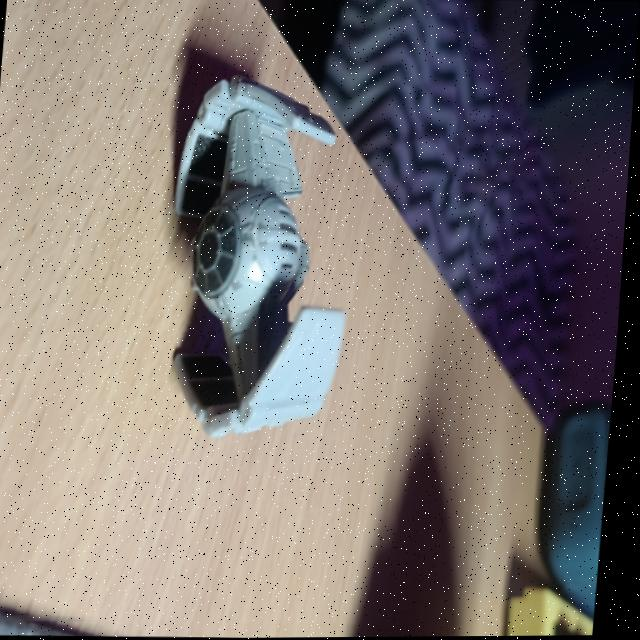tie fighter: (157, 70, 371, 442)
